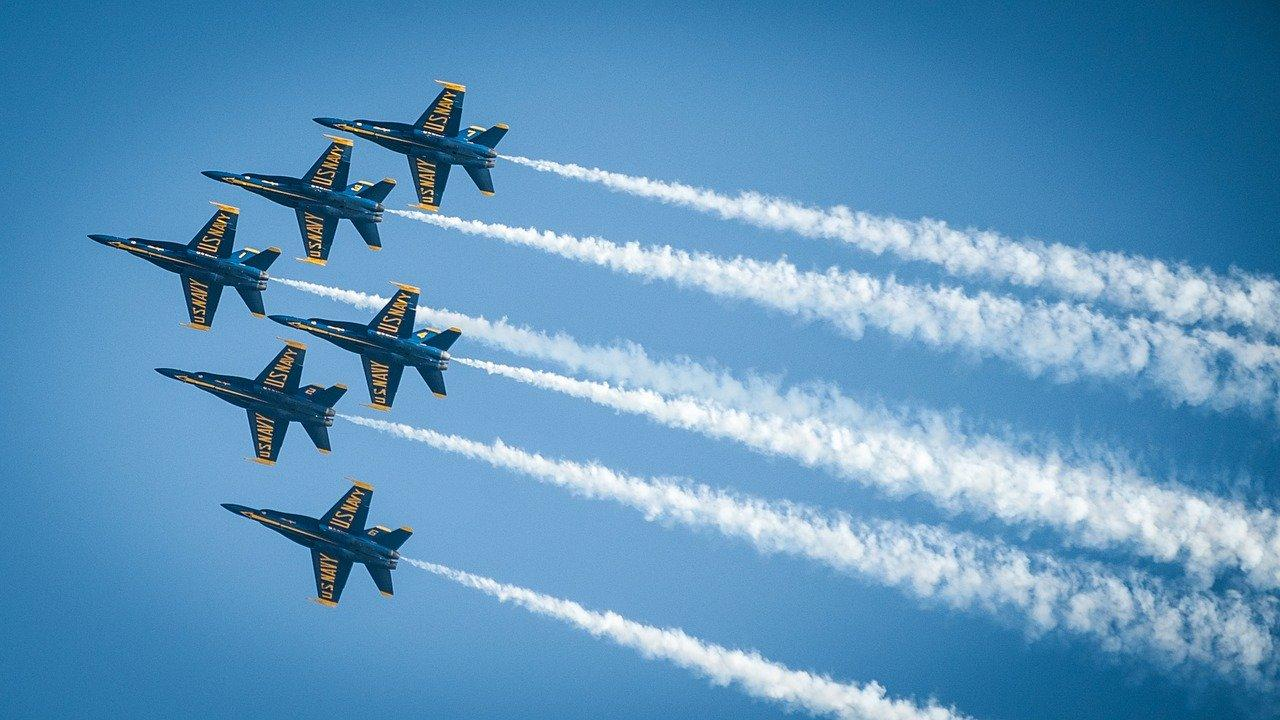plane: (84, 205, 280, 329), (265, 284, 459, 406), (313, 85, 503, 209), (216, 486, 411, 605), (202, 141, 393, 262), (148, 347, 346, 463)
